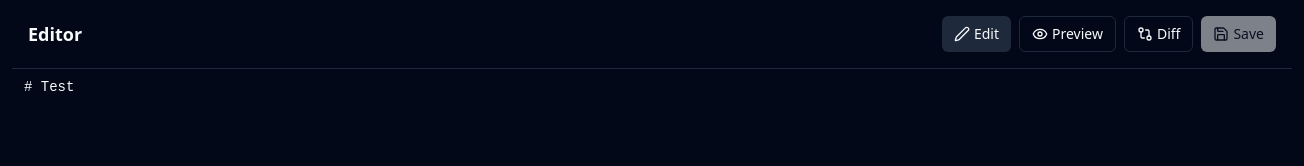
Test: EditorPanel › switches back to edit mode from preview
This screenshot has width=1304, height=166.
// Switch to preview
Click the button "Preview".
click(1067, 34)  # box [1019, 16, 1116, 52]
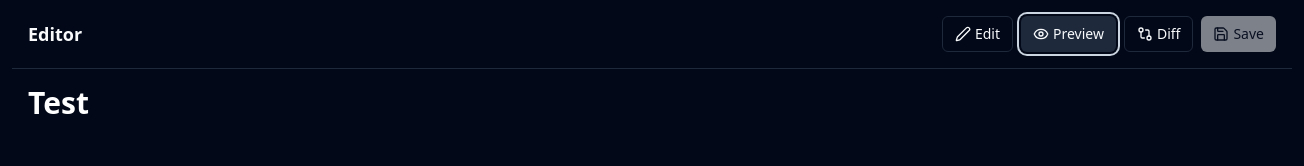
Expected: the element with test id "editor-preview" is shown, [28, 85, 89, 121]
// Switch back to edit
Click the button "Edit".
click(978, 34)  # box [942, 16, 1013, 52]
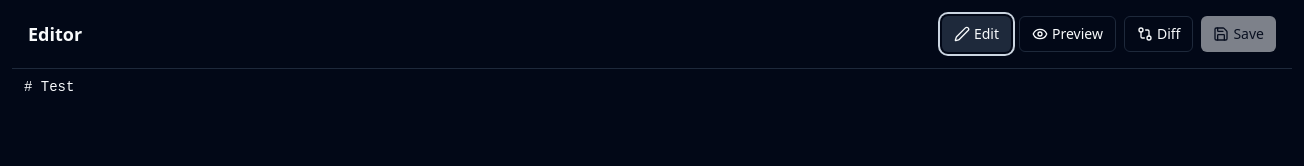
Expected: the text box with test id "editor-textarea" is shown, [12, 69, 1292, 149]
